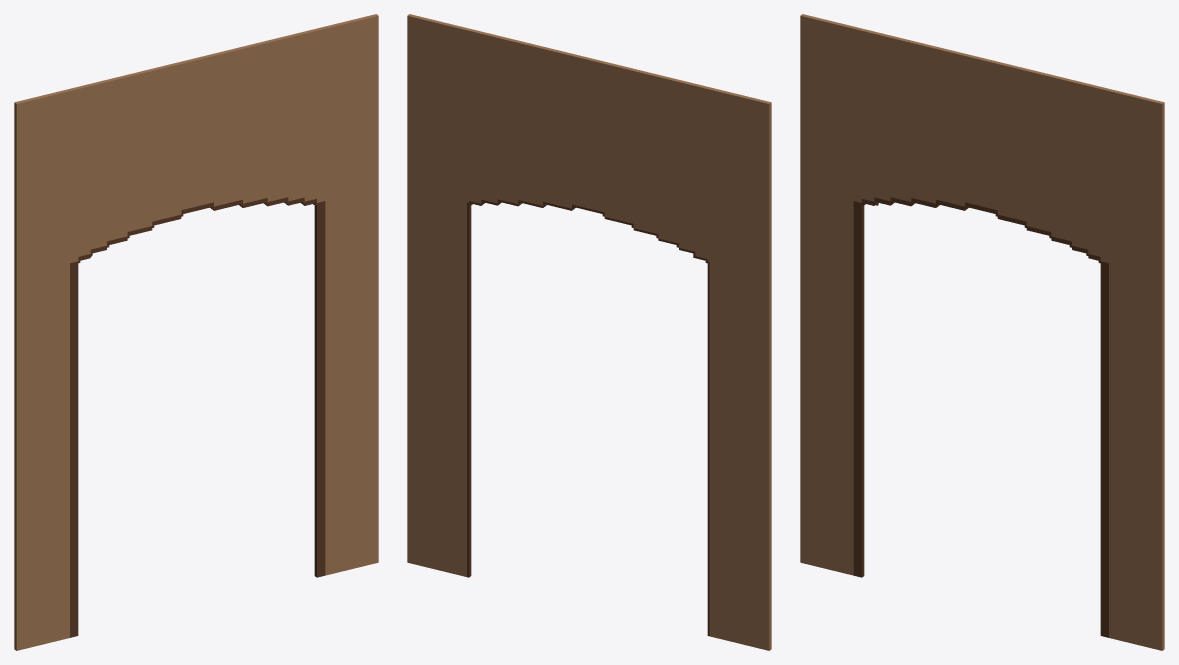
The model's file is arka.obj.
3 renders of one model, left to right at view 1: azimuth 30°, elevation 25°; view 2: azimuth 150°, elevation 25°; view 3: azimuth 330°, elevation 25°, orthographic.
Bounding box in the file's own units: 17.6 × 25.4 × 0.2.
1 material, 1 textured.
